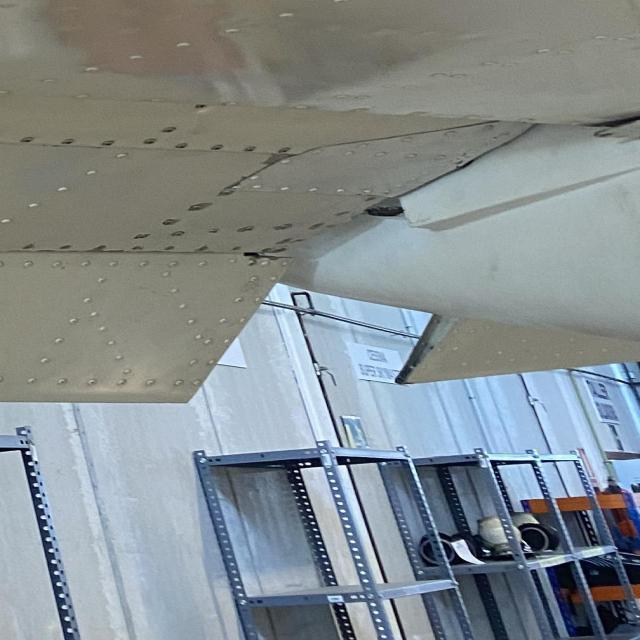Paint-off: (261, 153, 298, 165), (197, 202, 214, 209), (168, 219, 181, 225), (236, 227, 248, 233)
